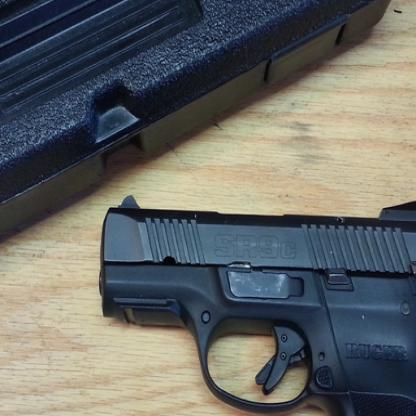gun: (99, 194, 415, 415)
